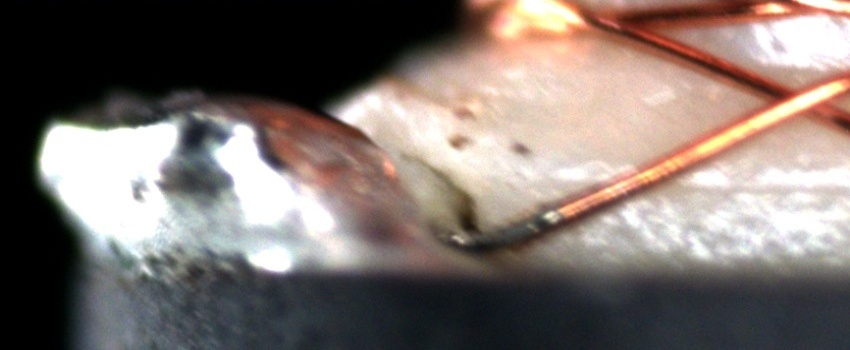CL: (747, 68, 843, 130)
DL: (548, 152, 850, 216)
TS: (453, 208, 563, 254)
